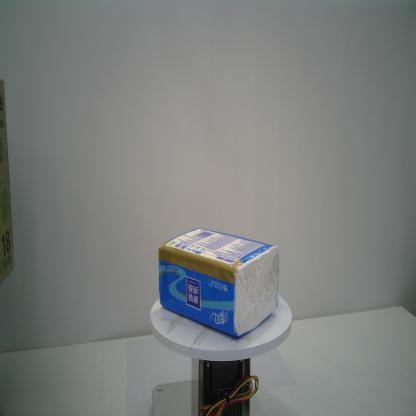Tissue: (158, 227, 280, 338)
